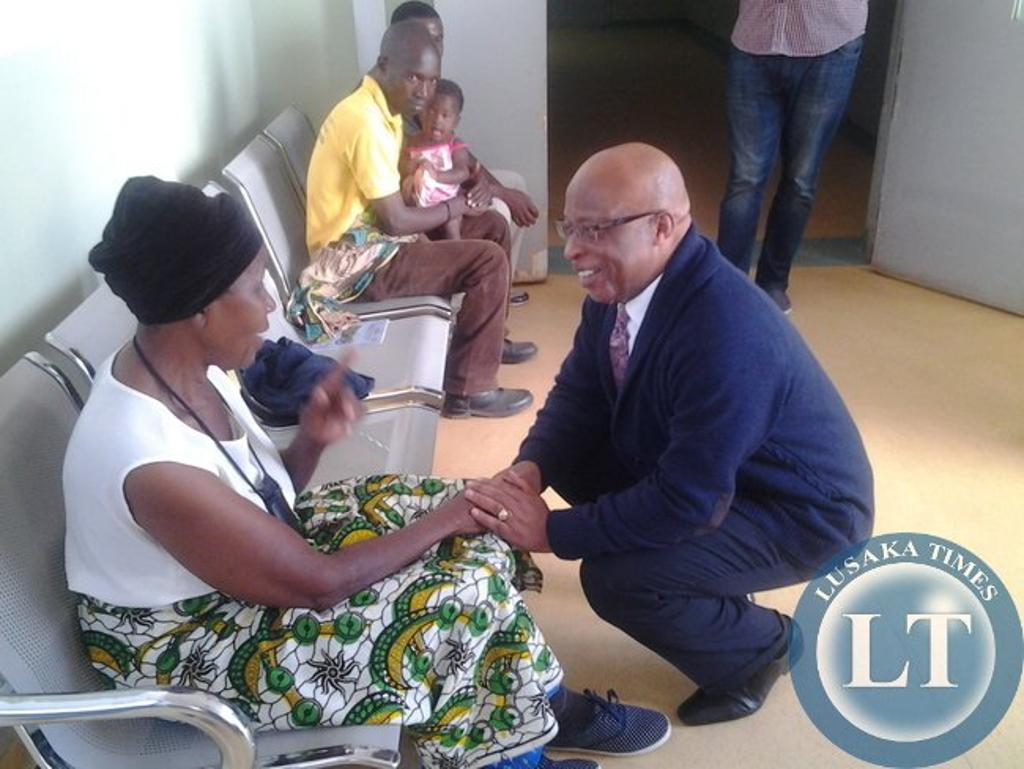face: (562, 186, 653, 300), (208, 254, 275, 362), (387, 56, 439, 116), (407, 21, 442, 68), (420, 95, 456, 140)
